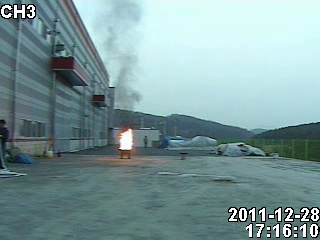fire: (117, 122, 136, 152)
